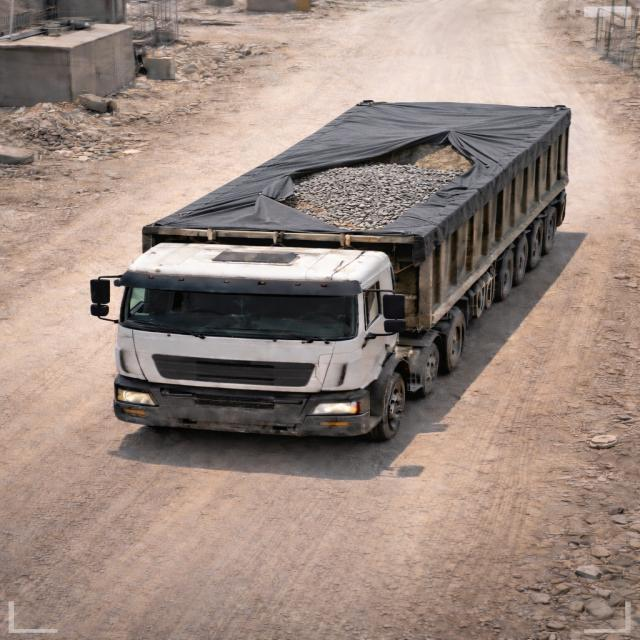trailer: (146, 101, 568, 236)
truck: (92, 98, 575, 449)
